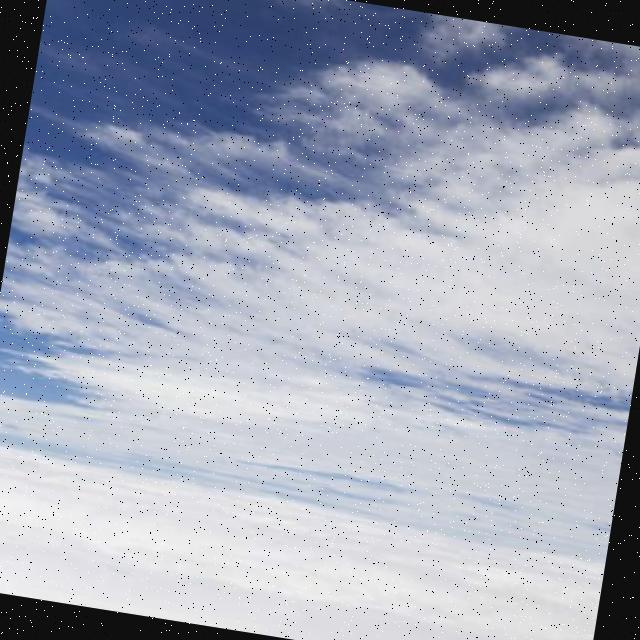Ac: (1, 1, 640, 479)
